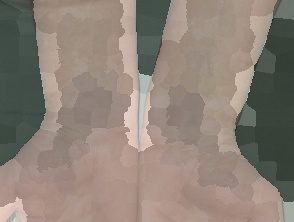vitiligo: (144, 0, 282, 204), (11, 0, 138, 200)
